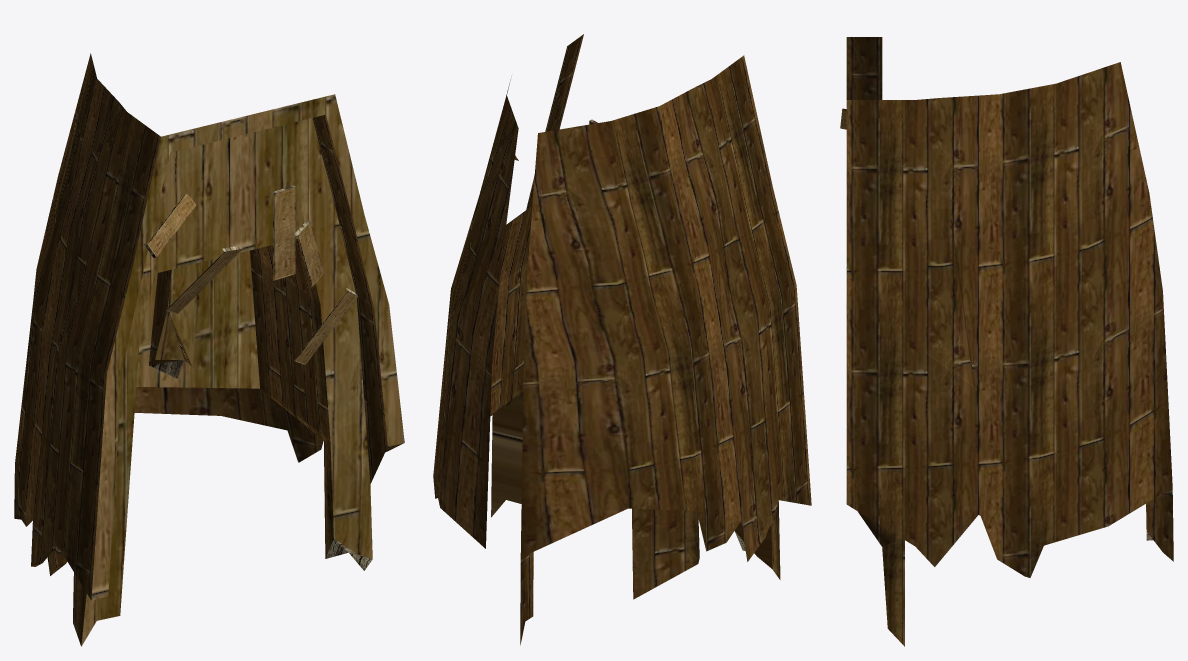
3 views of the same model, side by side, from view 1: azimuth 30°, elevation 25°; view 2: azimuth 150°, elevation 25°; view 3: azimuth 270°, elevation 25° (orthographic). The views are drawn at different scales.
Visible parts, largest first — view 1: model_Object15; view 2: model_Object15; view 3: model_Object15.
Part boxes in pixels (x1,y1,x2,y2): model_Object15: [14, 53, 404, 646]; model_Object15: [433, 34, 811, 645]; model_Object15: [840, 37, 1173, 646].
Size of the model in its own units: 3.17 by 4.94 by 2.88.
Materials: 3 (3 with a texture image).
